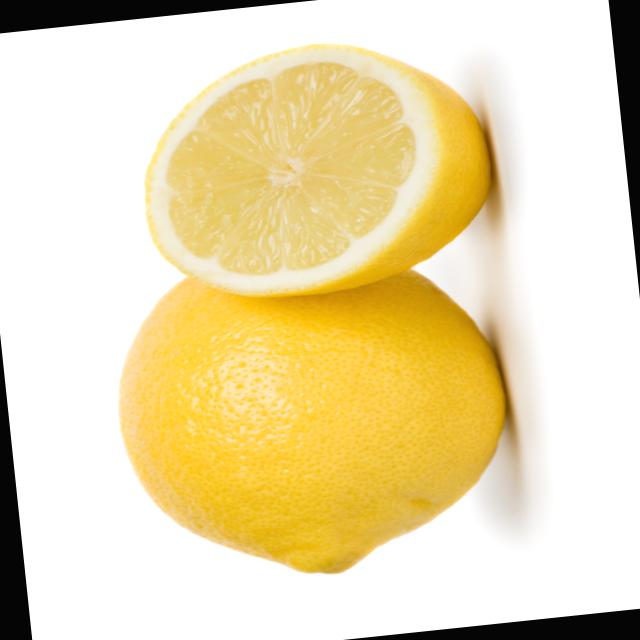lemon: (101, 236, 528, 608), (118, 27, 534, 315)
